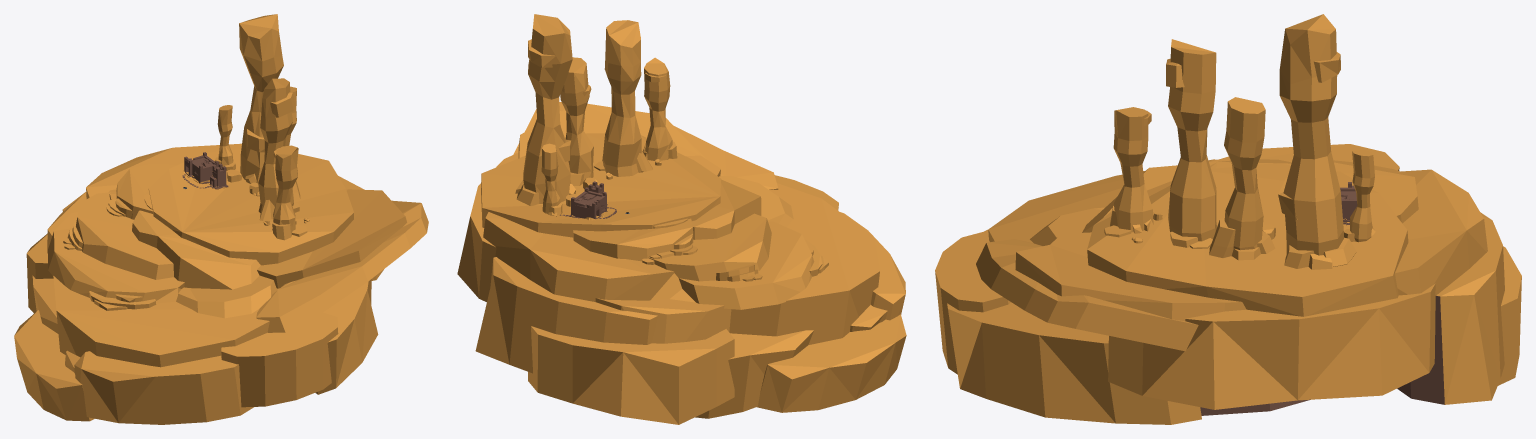
Rendered from Little Desert Town.glb.
3 renders of one model, left to right at view 1: azimuth 30°, elevation 25°; view 2: azimuth 150°, elevation 25°; view 3: azimuth 270°, elevation 25°, orthographic. The views are drawn at different scales.
Visible parts, largest first — view 1: group6901552, group1595760260, group708423367, group837572733, group666005816, group388214314, group1111414173, group1729548076, group399946483, group261797082, group1244397913, group589683802 (+11 smaller); view 2: group753178580, group6901552, group1595760260, group65333172, group1148855917, group1111414173, group1244397913, group1729548076, group1540364196, group261797082, group212697217, group2129520111 (+12 smaller); view 3: group1240685878, group6901552, group589683802, group1244397913, group65333172, group666005816, group1148855917, group1540364196, group388214314, group912035172, group1595760260, group837572733 (+9 smaller).
Part boxes in pixels (x1=…): group6901552: x1=148, y1=149, x2=353, y2=265; group1595760260: x1=53, y1=276, x2=279, y2=367; group708423367: x1=74, y1=351, x2=253, y2=424; group837572733: x1=221, y1=312, x2=338, y2=407; group666005816: x1=256, y1=200, x2=428, y2=332; group388214314: x1=257, y1=189, x2=406, y2=288; group1111414173: x1=14, y1=310, x2=94, y2=421; group1729548076: x1=48, y1=212, x2=184, y2=303; group399946483: x1=132, y1=210, x2=260, y2=289; group261797082: x1=76, y1=192, x2=173, y2=279; group1244397913: x1=239, y1=14, x2=283, y2=183; group589683802: x1=315, y1=279, x2=378, y2=394; group753178580: x1=528, y1=326, x2=734, y2=424; group6901552: x1=481, y1=133, x2=720, y2=237; group1595760260: x1=729, y1=183, x2=879, y2=344; group65333172: x1=475, y1=257, x2=657, y2=373; group1148855917: x1=483, y1=212, x2=682, y2=301; group1111414173: x1=757, y1=314, x2=906, y2=412; group1244397913: x1=523, y1=14, x2=572, y2=203; group1729548076: x1=670, y1=221, x2=814, y2=309; group1540364196: x1=602, y1=20, x2=641, y2=176; group261797082: x1=649, y1=213, x2=771, y2=281; group212697217: x1=695, y1=330, x2=813, y2=418; group2129520111: x1=595, y1=298, x2=731, y2=343; group1240685878: x1=1108, y1=283, x2=1435, y2=409; group6901552: x1=1087, y1=163, x2=1408, y2=316; group589683802: x1=947, y1=302, x2=1201, y2=424; group1244397913: x1=1279, y1=14, x2=1343, y2=255; group65333172: x1=1397, y1=212, x2=1504, y2=404; group666005816: x1=976, y1=239, x2=1198, y2=351; group1148855917: x1=1395, y1=169, x2=1487, y2=295; group1540364196: x1=1168, y1=39, x2=1216, y2=241; group388214314: x1=1015, y1=232, x2=1246, y2=320; group912035172: x1=1224, y1=97, x2=1265, y2=250; group1595760260: x1=988, y1=159, x2=1310, y2=415; group837572733: x1=935, y1=231, x2=1010, y2=374.
Bounding box in the file's own units: 2.86 × 2.28 × 2.77.
